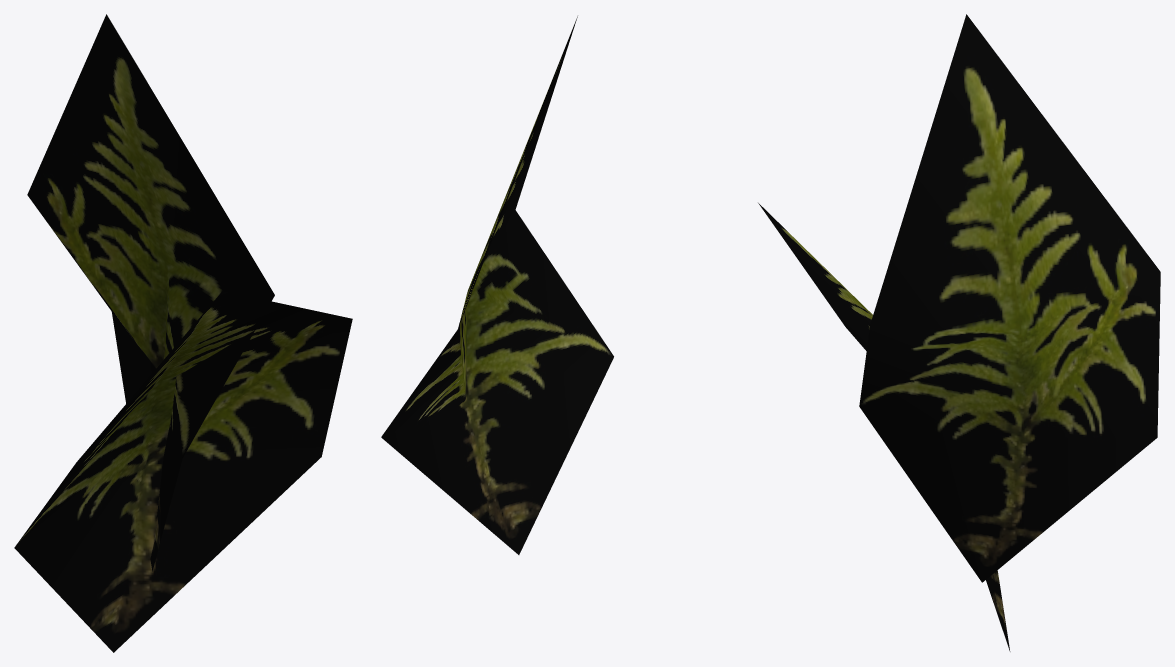
File: Moss_04.fbx
3 views of the same model, side by side, from view 1: azimuth 30°, elevation 25°; view 2: azimuth 150°, elevation 25°; view 3: azimuth 270°, elevation 25° (orthographic). The views are drawn at different scales.
Parts seen in each view (by area): view 1: Moss_04; view 2: Moss_04; view 3: Moss_04.
Part boxes in pixels (x1,y1,x2,y2): Moss_04: (14, 14, 352, 652); Moss_04: (381, 16, 613, 554); Moss_04: (758, 14, 1160, 651).
Size of the model in its own units: 0.0406 by 0.08 by 0.0468.
1 material, 1 textured.
